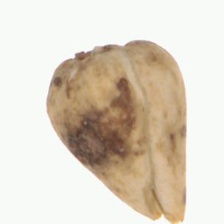L1: (62, 40, 144, 59), (144, 206, 186, 224)
L2: (46, 39, 189, 223)
